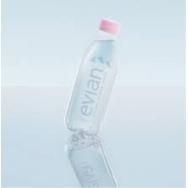plastic_bottle: (65, 18, 121, 137)
